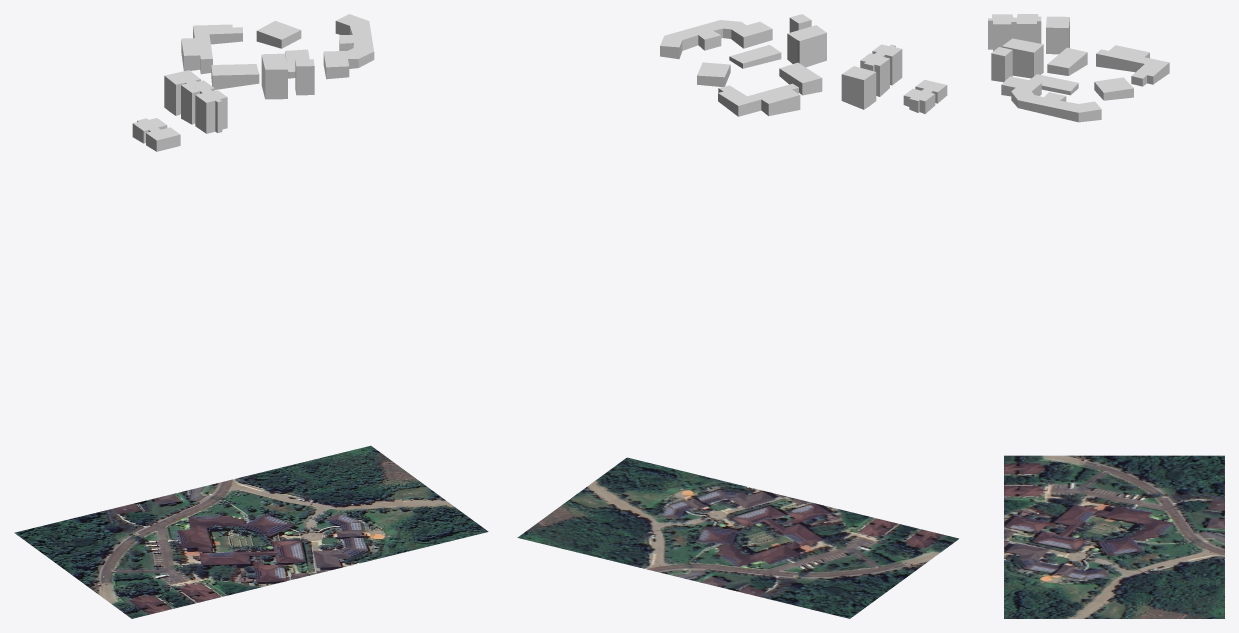
File: ash_3d.dae
The picture shows the model from 3 angles, left to right: view 1: azimuth 30°, elevation 25°; view 2: azimuth 150°, elevation 25°; view 3: azimuth 270°, elevation 25°; orthographic projection. The views are drawn at different scales.
Visible parts, largest first — view 1: EXPORT_GOOGLE_SAT_WM, Areas:building; view 2: EXPORT_GOOGLE_SAT_WM, Areas:building; view 3: EXPORT_GOOGLE_SAT_WM, Areas:building.
Part boxes in pixels (left/top/right/bottom): EXPORT_GOOGLE_SAT_WM: left=14, top=445, right=488, bottom=618; Areas:building: left=132, top=14, right=374, bottom=151; EXPORT_GOOGLE_SAT_WM: left=517, top=457, right=958, bottom=618; Areas:building: left=660, top=14, right=947, bottom=116; EXPORT_GOOGLE_SAT_WM: left=1004, top=455, right=1224, bottom=618; Areas:building: left=988, top=14, right=1169, bottom=122.
Bounding box in the file's own units: 268 × 164 × 369.
Materials: 1 (1 with a texture image).
